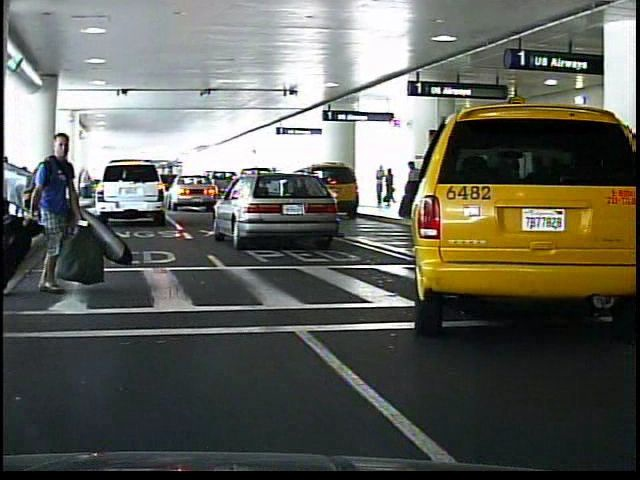person: (30, 124, 89, 305), (373, 166, 385, 207), (404, 159, 421, 185), (384, 166, 394, 207)
